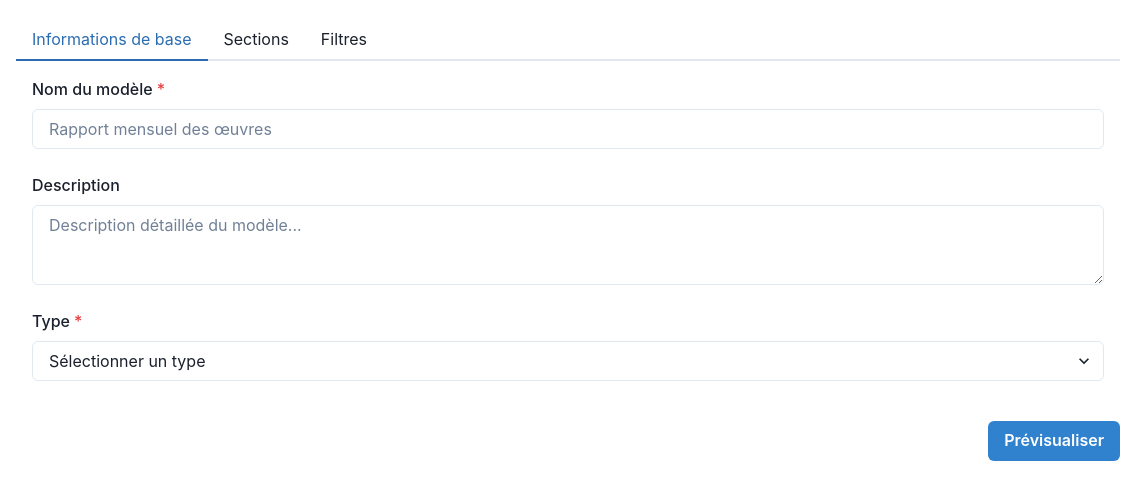
Test: VisualEditor › switches between tabs correctly
Click the tab "Sections": (256,40) [208,19,305,61]
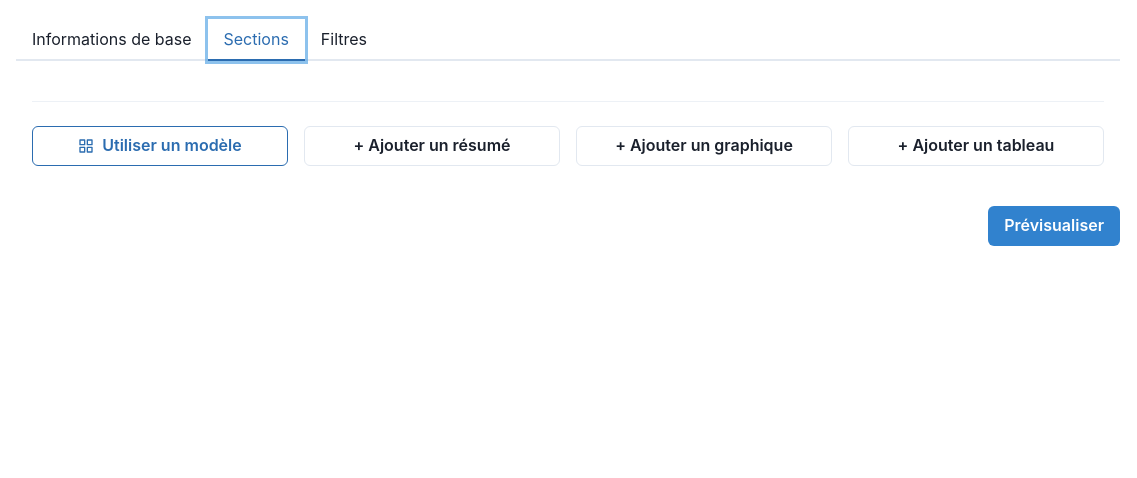
Check: the button "+ Ajouter un résumé" is shown, box [304,126,560,166]
Click the tab "Filtres": (344,40) [305,19,383,61]
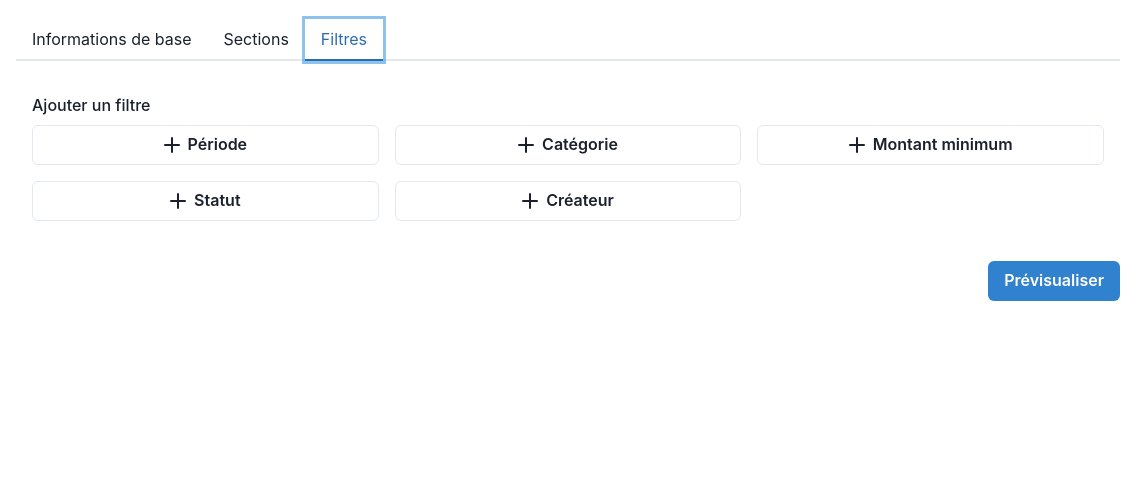
Check: the text "Ajouter un filtre" is shown, box [32,95,150,115]
